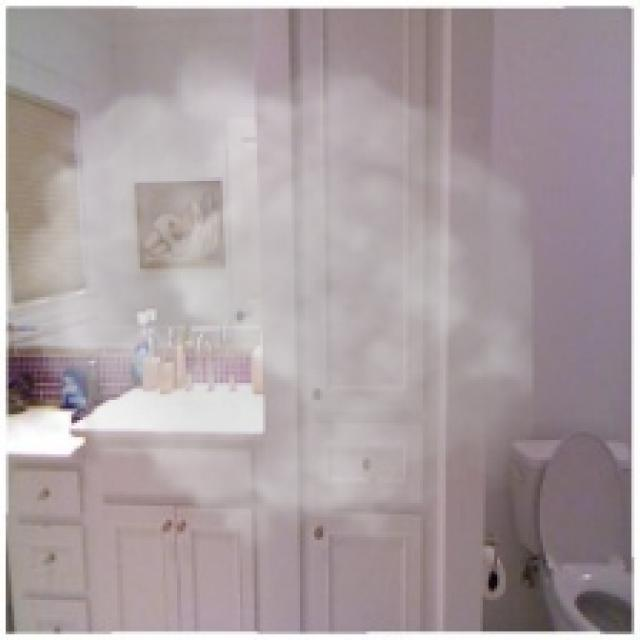Smoke: (6, 29, 534, 568)
